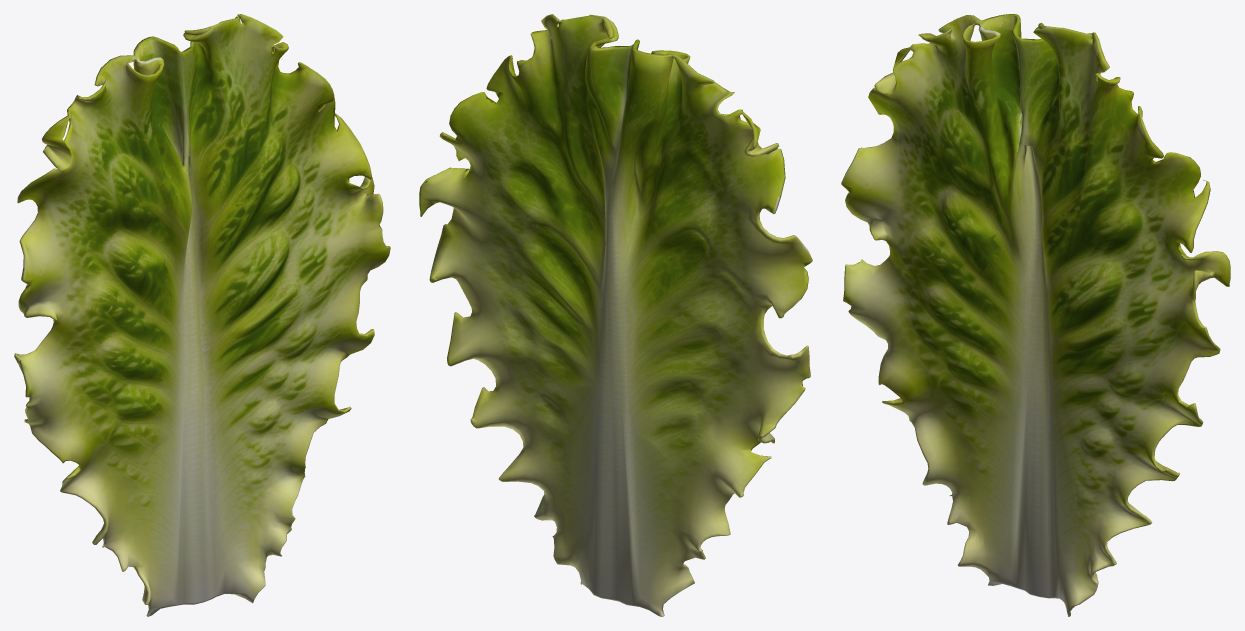
File: lettuce.glb
The picture shows the model from 3 angles, left to right: view 1: azimuth 30°, elevation 25°; view 2: azimuth 150°, elevation 25°; view 3: azimuth 330°, elevation 25°; orthographic projection.
Visible parts, largest first — view 1: material; view 2: material; view 3: material.
Part boxes in pixels (x1=…): material: x1=14, y1=14, x2=390, y2=616; material: x1=419, y1=14, x2=812, y2=616; material: x1=841, y1=14, x2=1230, y2=616.
Bounding box in the file's own units: 1.28 × 1.9 × 0.2011.
Materials: 1 (1 with a texture image).
